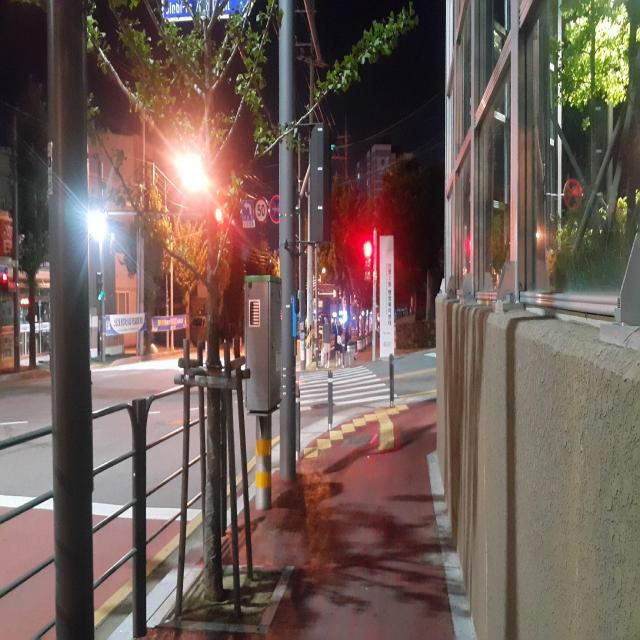빨간불: (363, 238, 373, 279)
횡단보도: (298, 364, 398, 412)
